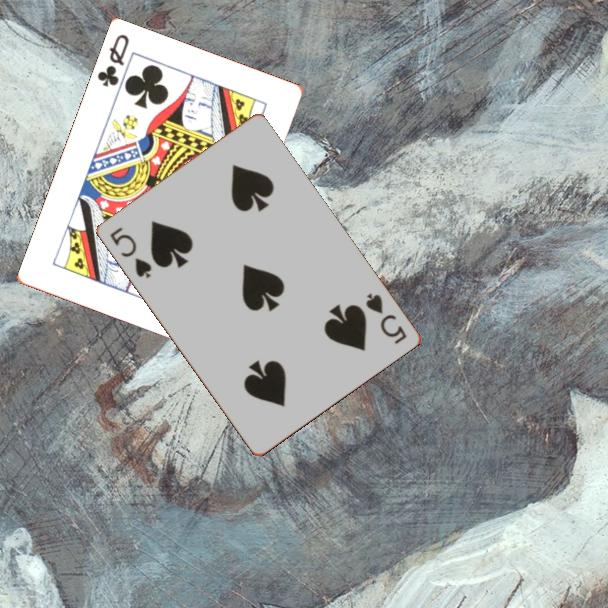c12: (94, 31, 132, 90)
s05: (106, 224, 154, 281), (362, 289, 409, 347)
